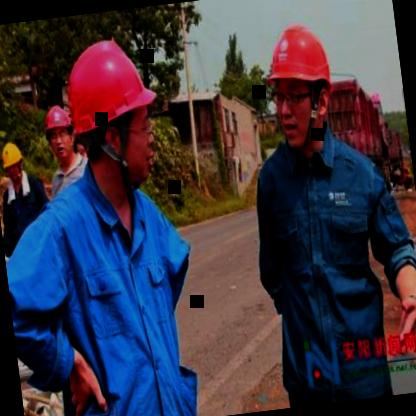helmet: (61, 23, 171, 200), (252, 10, 345, 155), (38, 97, 80, 168), (0, 137, 26, 184)
